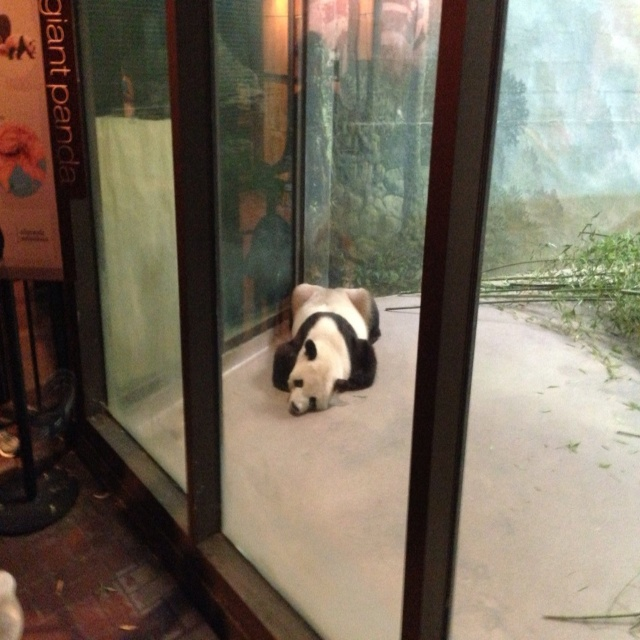Panda: (272, 284, 380, 415)
